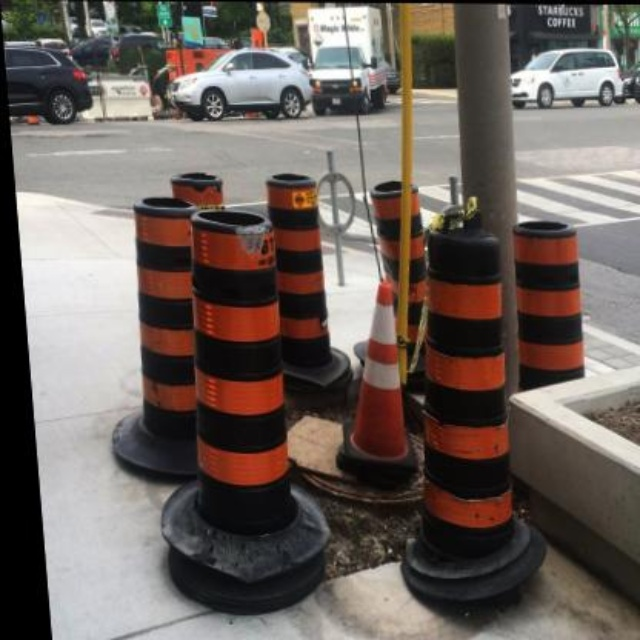obstacle: (175, 214, 292, 536), (404, 231, 514, 551), (116, 187, 187, 446), (262, 170, 328, 372)
